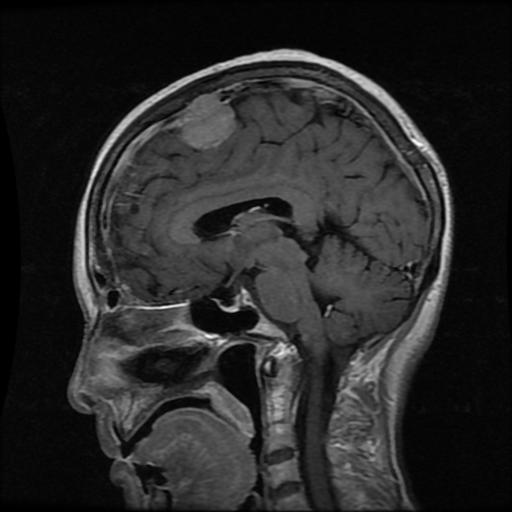Menigiomia_tumour: (181, 94, 236, 148)
